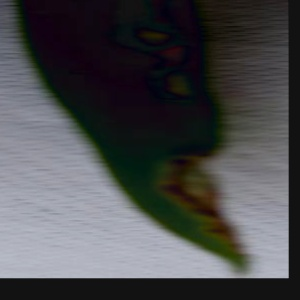Brown_Spot: (146, 148, 250, 240), (103, 0, 192, 57), (135, 53, 209, 104)
